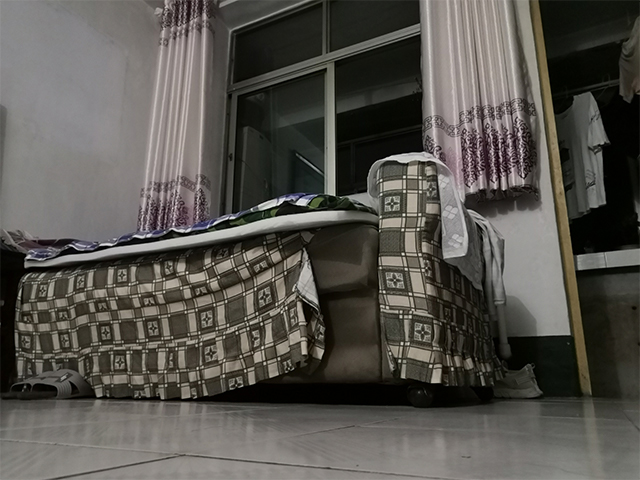curtain: (417, 2, 540, 200), (140, 1, 215, 232)
slippers: (1, 366, 96, 401)
sofa: (1, 150, 514, 410)
